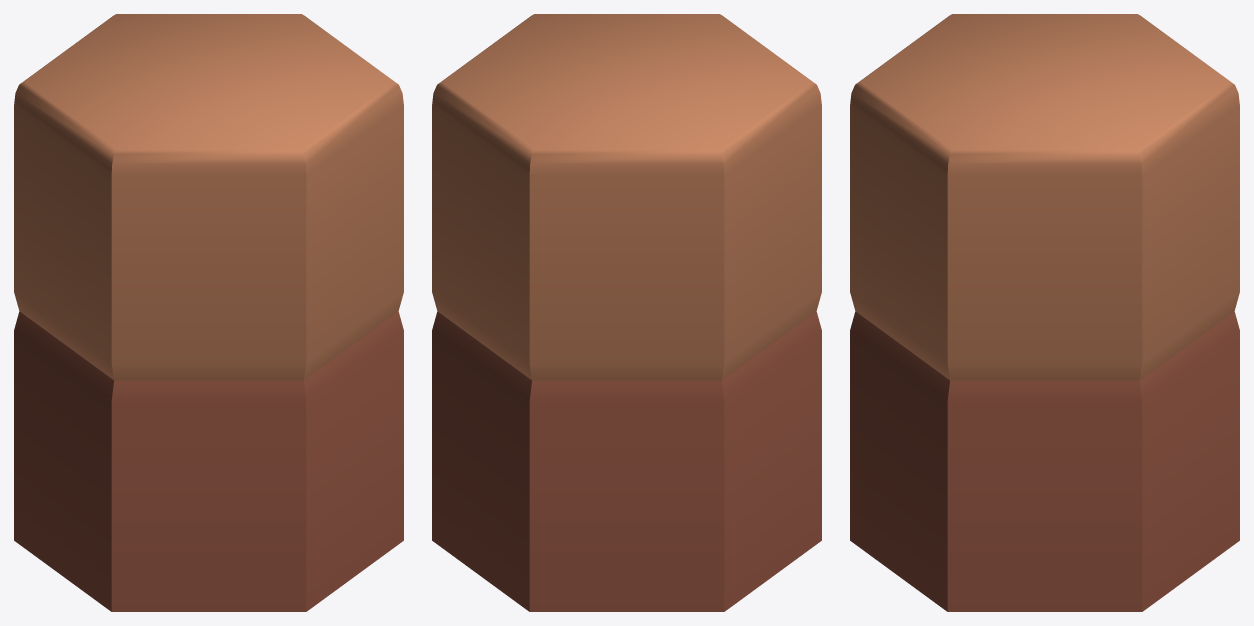
Rendered from HillTransition.fbx.
3 renders of one model, left to right at view 1: azimuth 30°, elevation 25°; view 2: azimuth 150°, elevation 25°; view 3: azimuth 270°, elevation 25°, orthographic.
Visible parts, largest first — view 1: hex_rock_detail; view 2: hex_rock_detail; view 3: hex_rock_detail.
Boxes of the visible parts, x1=… form: hex_rock_detail: x1=14, y1=14, x2=403, y2=611; hex_rock_detail: x1=432, y1=14, x2=821, y2=611; hex_rock_detail: x1=850, y1=14, x2=1239, y2=611.
Bounding box in the file's own units: 2 × 3 × 2.31.
